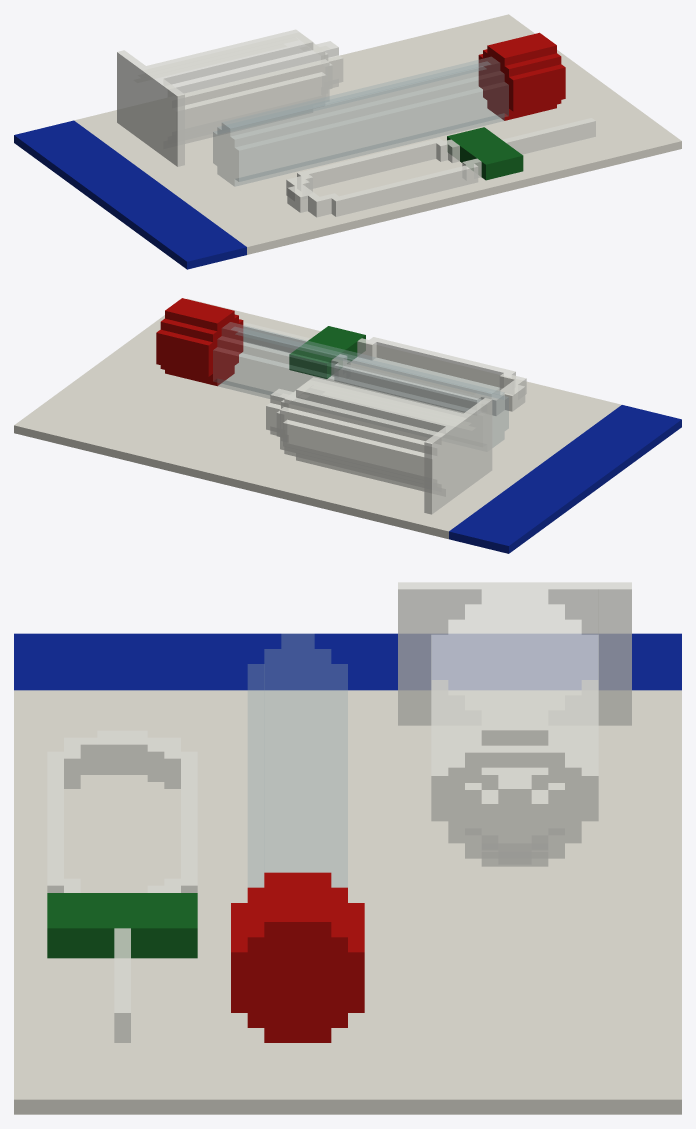
The model's file is vacutainer.glb.
3 views of the same model, one above another, from view 1: azimuth 30°, elevation 25°; view 2: azimuth 150°, elevation 25°; view 3: azimuth 270°, elevation 25° (orthographic). The views are drawn at different scales.
Parts seen in each view (by area): view 1: vacutainer:compound; view 2: vacutainer:compound; view 3: vacutainer:compound.
Boxes of the visible parts, x1,y1,x2,y2 form: vacutainer:compound: (14, 14, 681, 269); vacutainer:compound: (14, 298, 681, 553); vacutainer:compound: (14, 582, 681, 1114).
Bounding box in the file's own units: 0.132 × 0.02 × 0.08.
